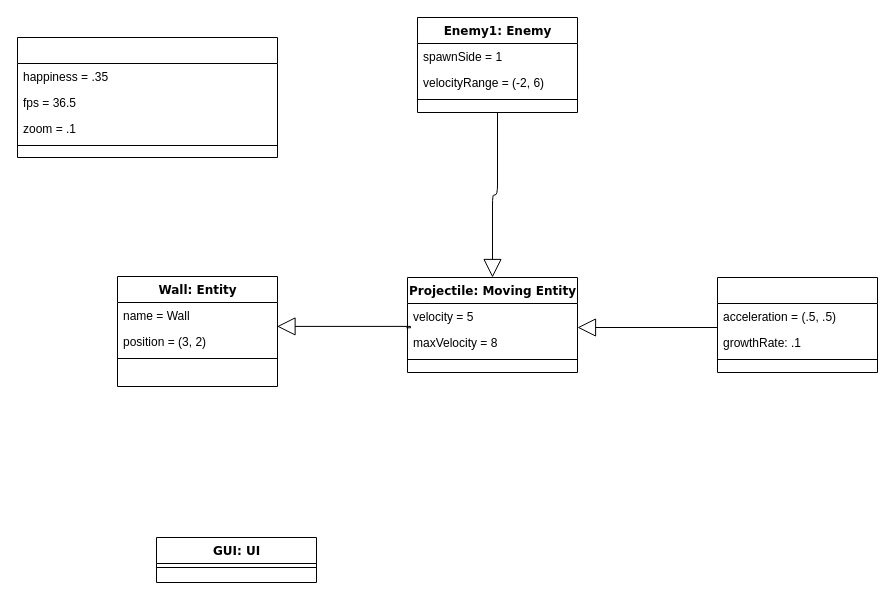
Some shapes in this 895 by 600 pixel diagram are drawn without their labels. Each missing label, with the box of its shape:
FrController: Framerate Controller: (16, 36, 278, 158)
Player1: Player: (716, 276, 878, 372)
